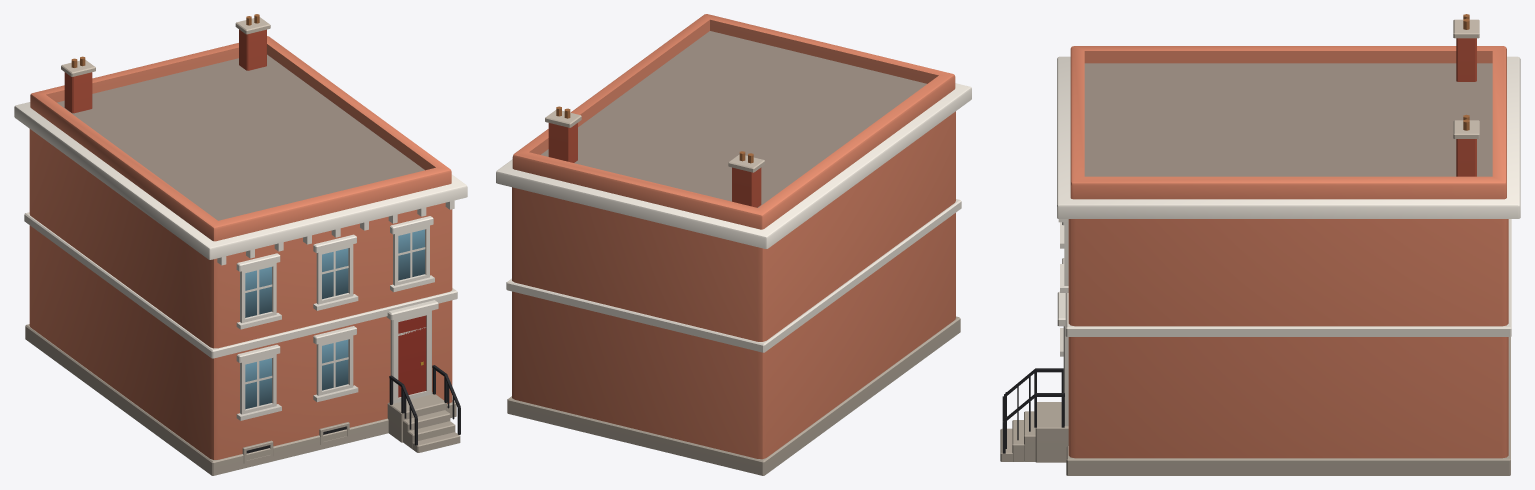
File: beacon_ne3.glb
3 renders of one model, left to right at view 1: azimuth 30°, elevation 25°; view 2: azimuth 150°, elevation 25°; view 3: azimuth 270°, elevation 25°, orthographic. The views are drawn at different scales.
Parts seen in each view (by area): view 1: beacon_ne3; view 2: beacon_ne3; view 3: beacon_ne3.
Boxes of the visible parts, x1,y1,x2,y2 form: beacon_ne3: [14, 14, 467, 475]; beacon_ne3: [496, 14, 971, 475]; beacon_ne3: [1000, 14, 1520, 475].
Bounding box in the file's own units: 9.64 × 10.14 × 14.18.
1 material, 1 textured.
